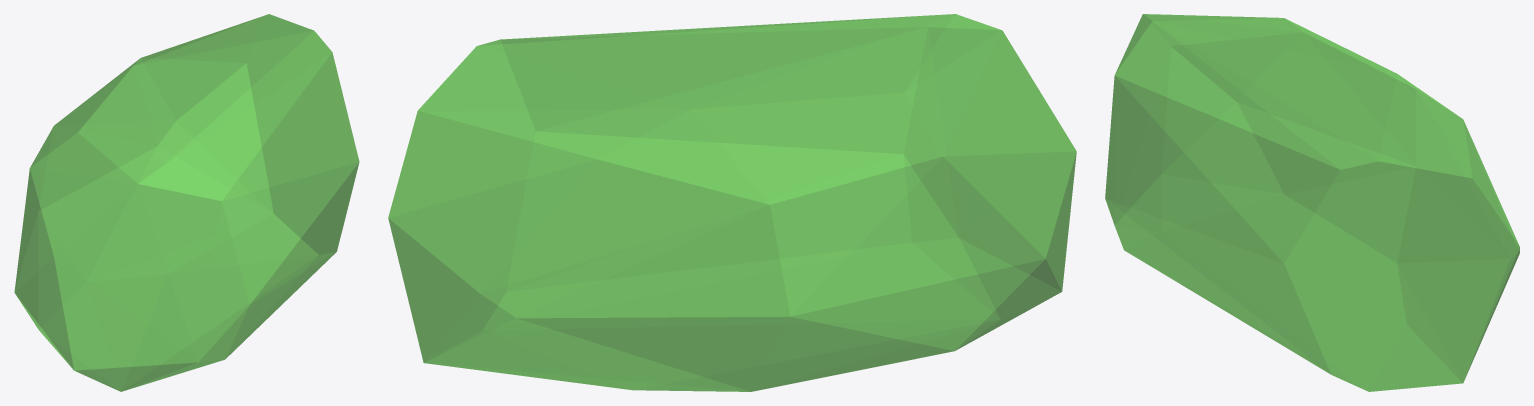
The picture shows the model from 3 angles, left to right: view 1: azimuth 30°, elevation 25°; view 2: azimuth 150°, elevation 25°; view 3: azimuth 270°, elevation 25°; orthographic projection. The views are drawn at different scales.
Visible parts, largest first — view 1: Shape_IndexedFaceSet.014_Shape_IndexedFaceSet.4856; view 2: Shape_IndexedFaceSet.014_Shape_IndexedFaceSet.4856; view 3: Shape_IndexedFaceSet.014_Shape_IndexedFaceSet.4856.
Boxes of the visible parts, x1=… form: Shape_IndexedFaceSet.014_Shape_IndexedFaceSet.4856: x1=14, y1=14, x2=359, y2=391; Shape_IndexedFaceSet.014_Shape_IndexedFaceSet.4856: x1=388, y1=14, x2=1076, y2=391; Shape_IndexedFaceSet.014_Shape_IndexedFaceSet.4856: x1=1105, y1=14, x2=1519, y2=391.
Size of the model in its own units: 0.0682 by 0.0406 by 0.0638.
